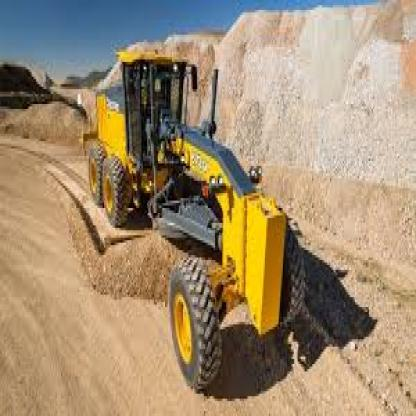bull_dozer/loader/grader: (78, 47, 334, 391)
